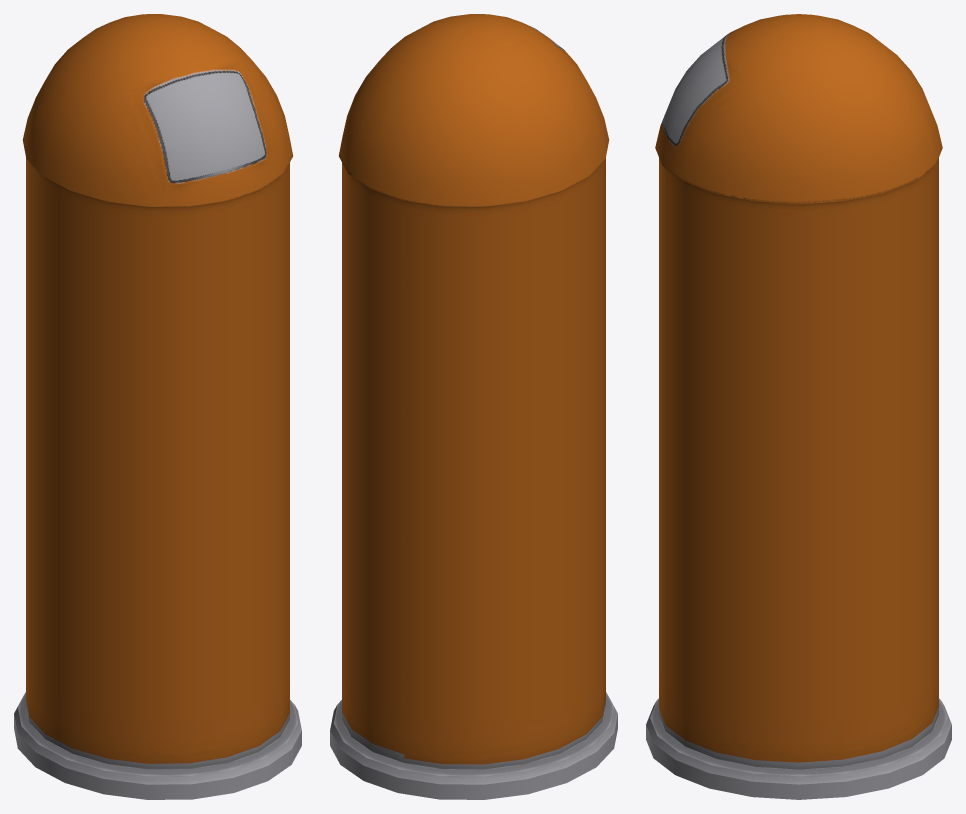
Rendered from TrashCan.fbx.
3 renders of one model, left to right at view 1: azimuth 30°, elevation 25°; view 2: azimuth 150°, elevation 25°; view 3: azimuth 270°, elevation 25°, orthographic.
Parts seen in each view (by area): view 1: pSphere2; view 2: pSphere2; view 3: pSphere2.
Part boxes in pixels (box(x1,y1,x2,y2)): pSphere2: box(14, 14, 301, 799); pSphere2: box(330, 14, 617, 799); pSphere2: box(646, 14, 951, 799).
Bounding box in the file's own units: 1.36 × 3.76 × 1.46.
